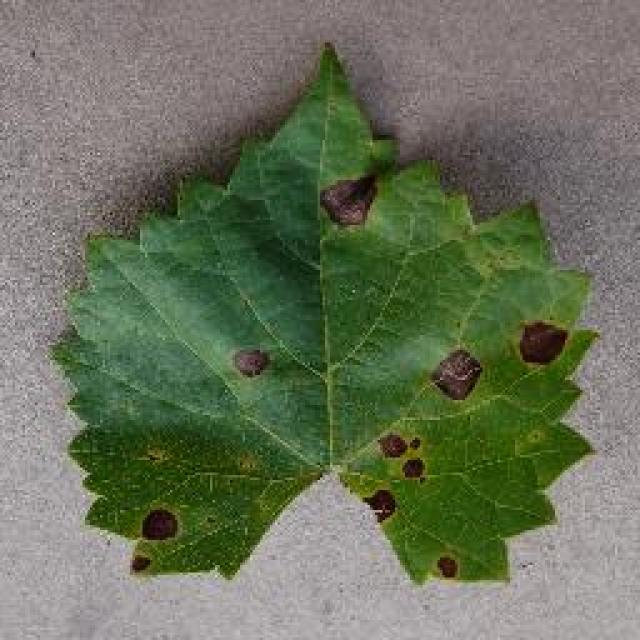Grape___Black_rot: (44, 41, 602, 593)
